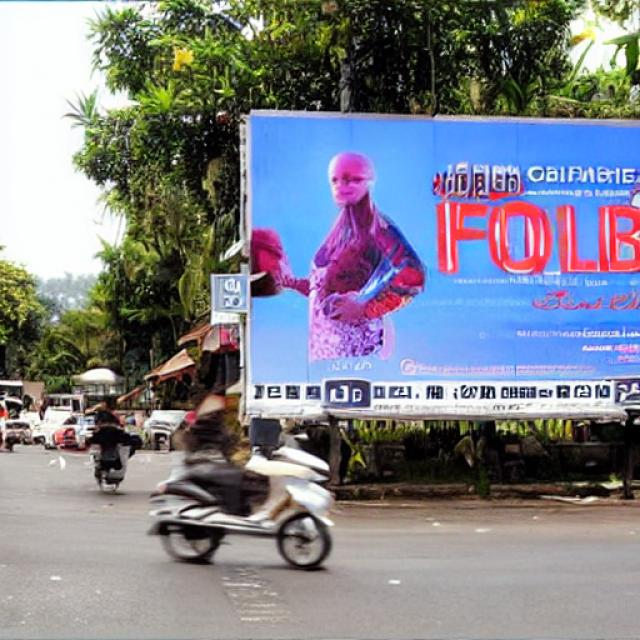Billboard: (237, 111, 640, 422)
